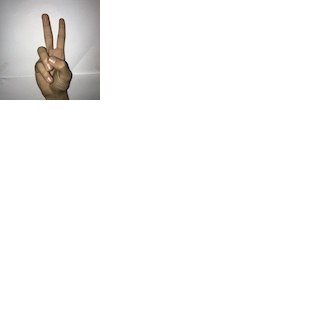scissors: (33, 12, 75, 95)
